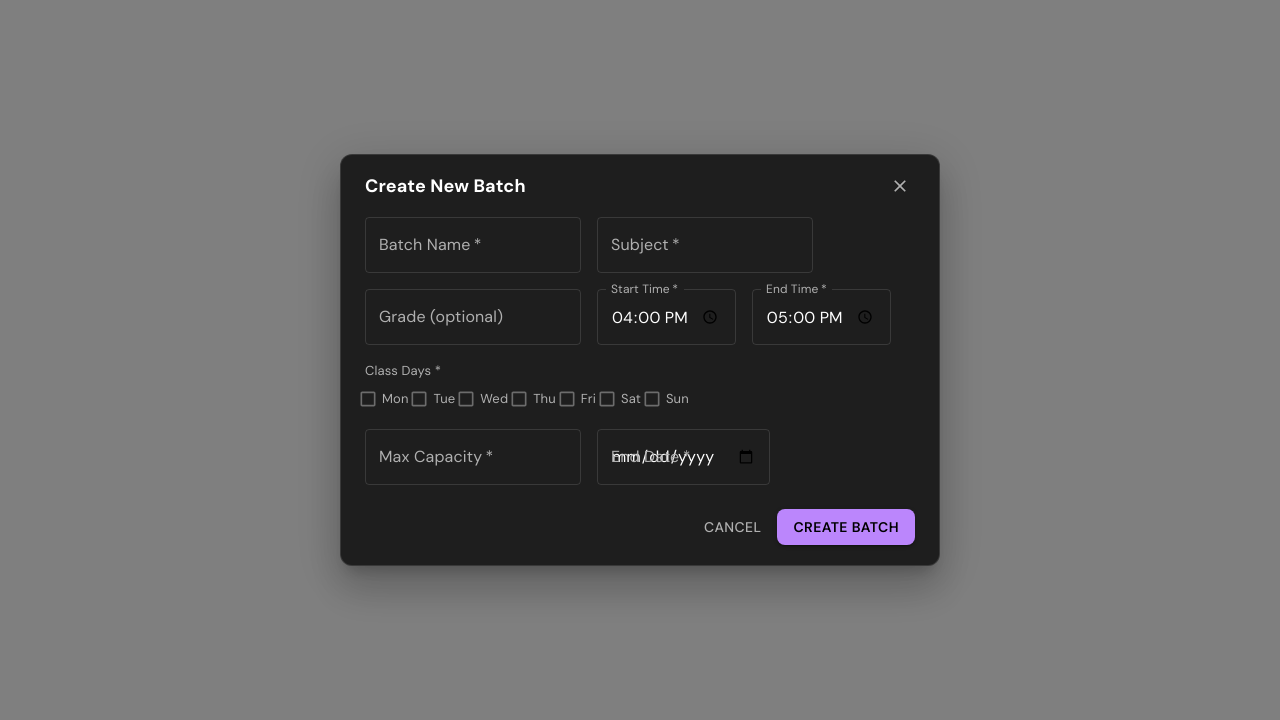
Test case: CreateBatchModal › shows API error message when createBatch fails
Type "New Batch" into the field labelled "Batch Name *".
click(473, 245); type("New Batch")  # box [365,217,581,273]
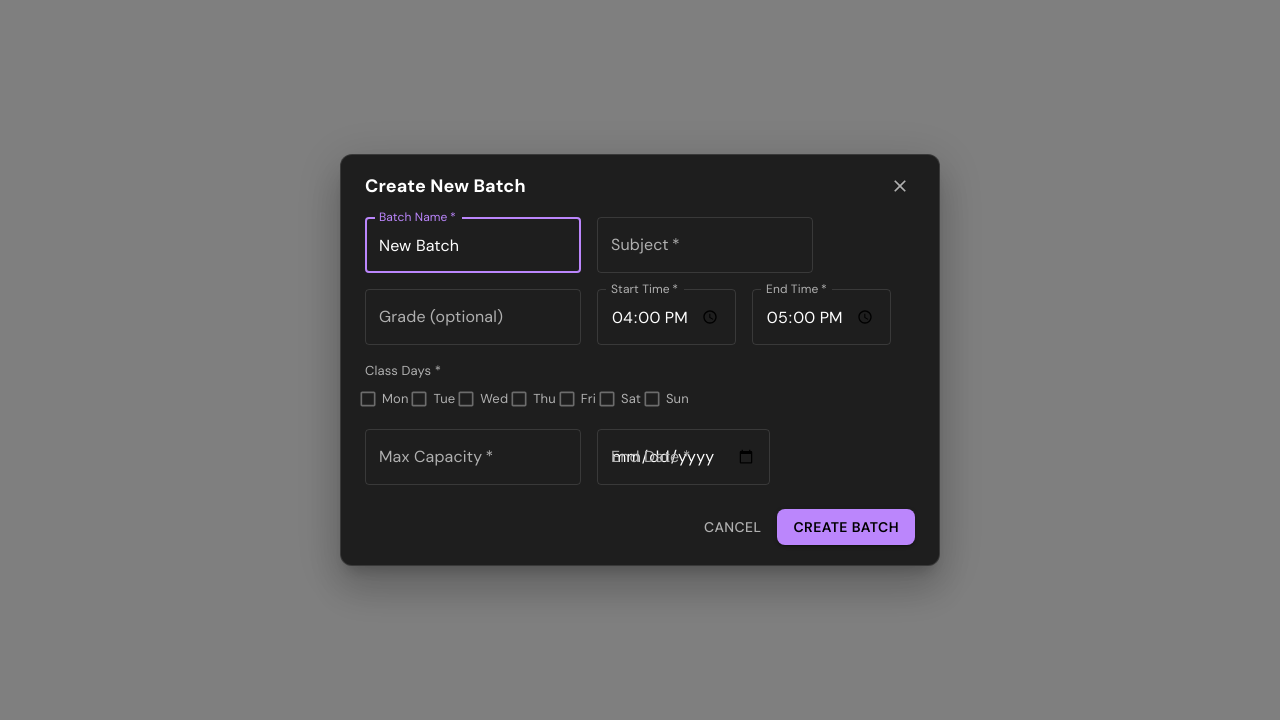
Type "Science" into the field labelled "Subject *".
click(705, 245); type("Science")  # box [597,217,813,273]
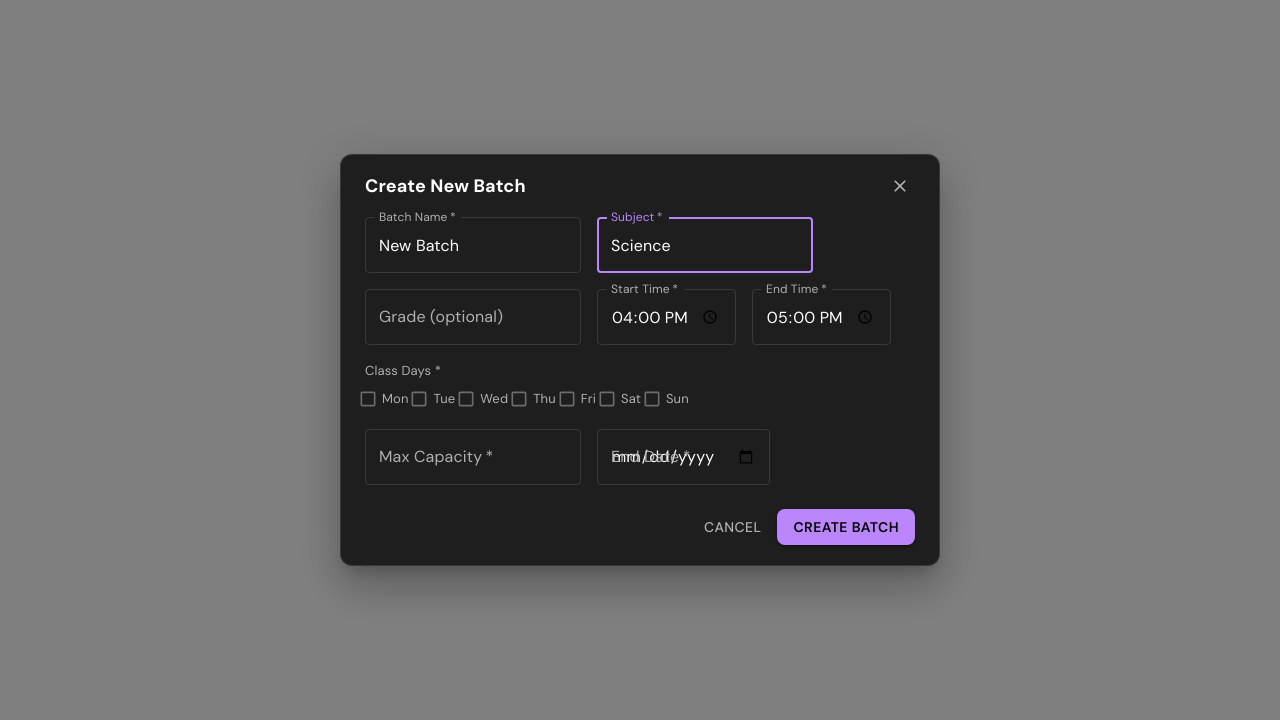
Click the checkbox labelled "Mon".
click(381, 398)  # box [354,384,408,412]
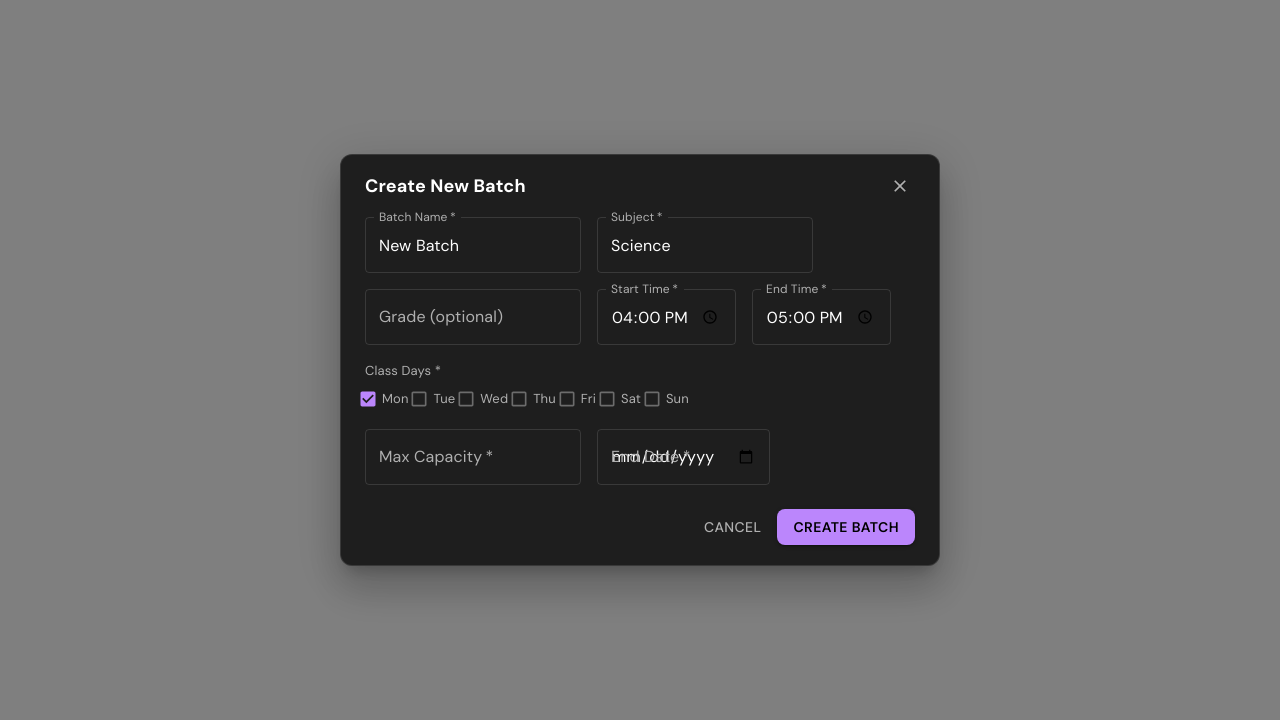
Type "20" into the number field labelled "Max Capacity *".
click(473, 456); type("20")  # box [365,428,581,484]
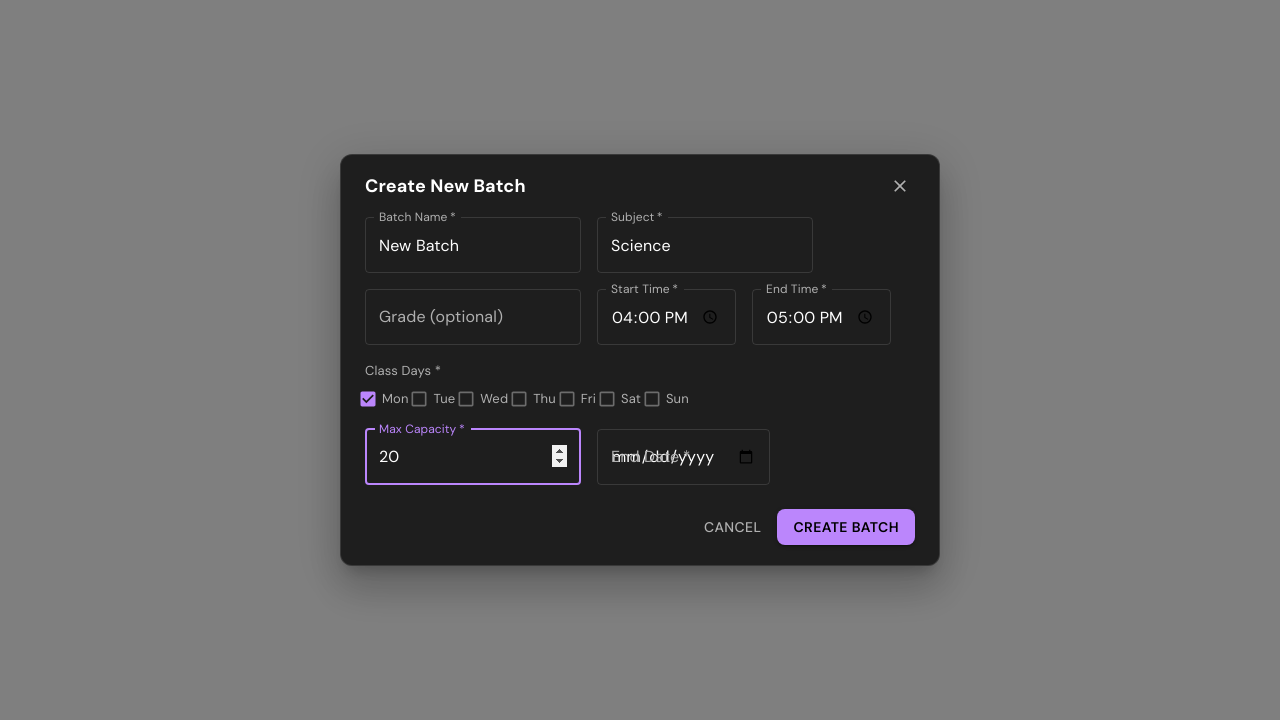
Type "2026-12-31" into the date field labelled "End Date *".
click(684, 456); type("2026-12-31")  # box [597,428,770,484]
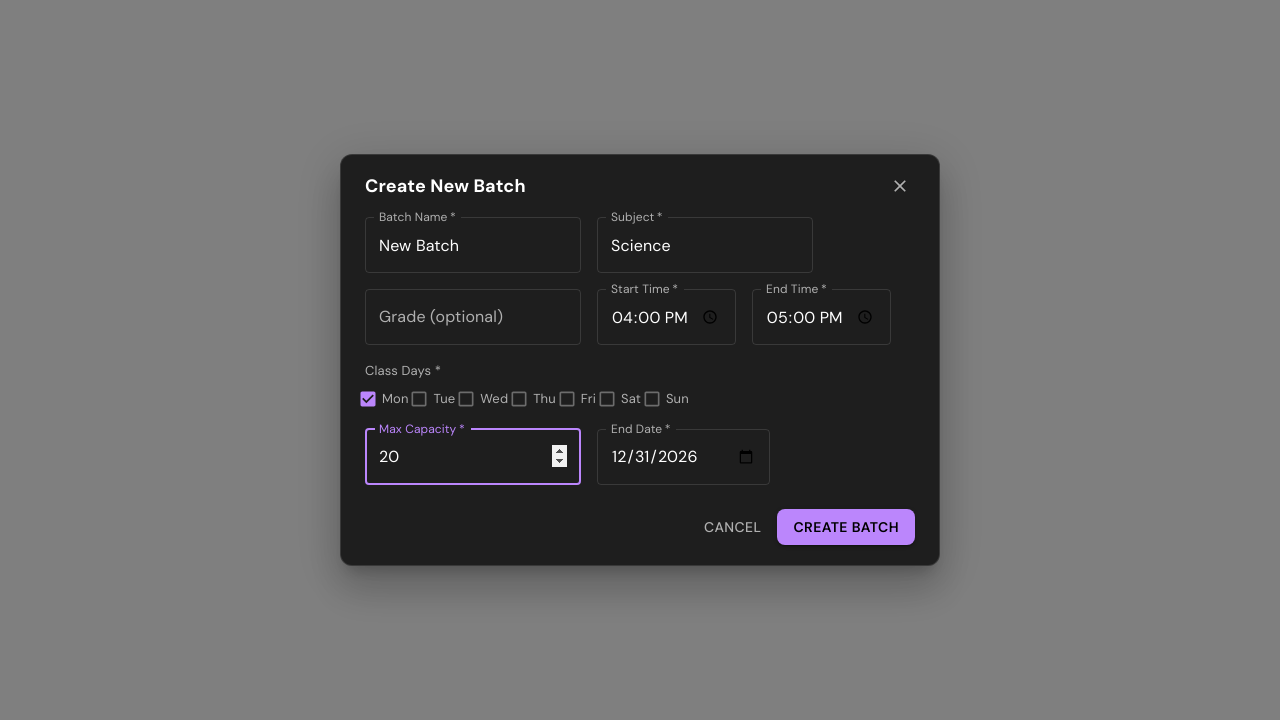
Click the button "Create Batch".
click(846, 527)  # box [777,508,915,545]
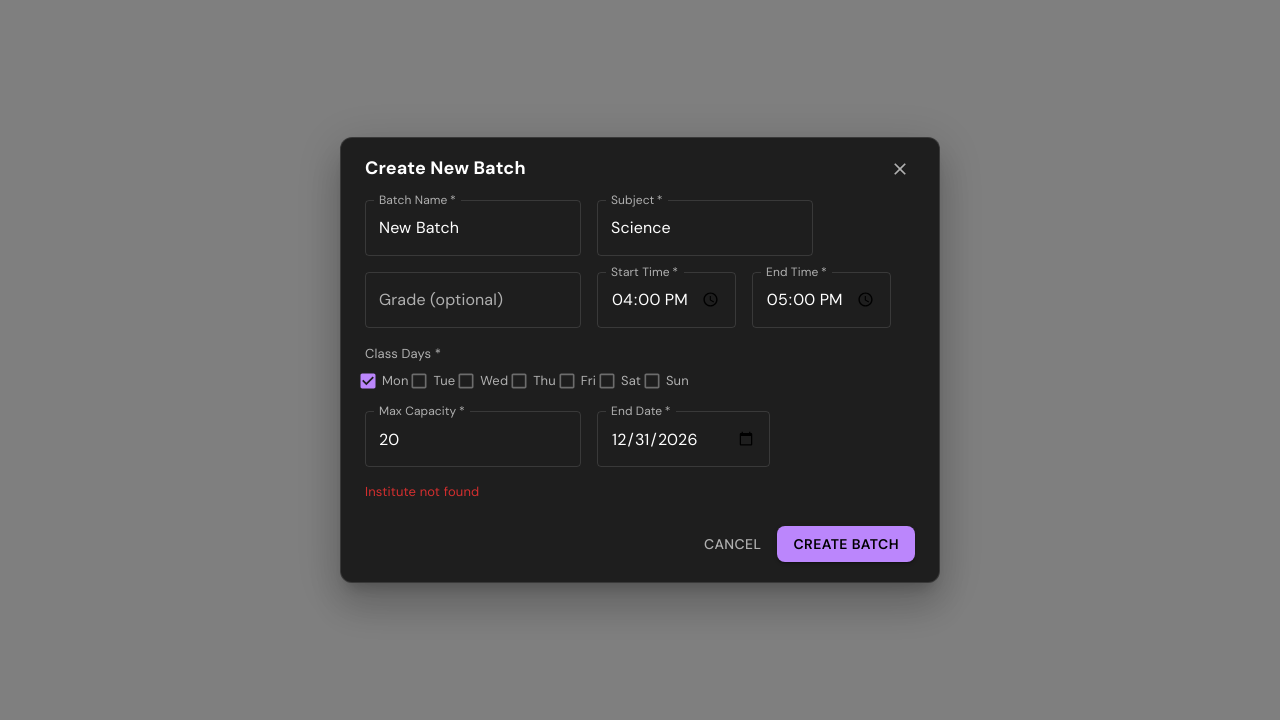
Check: the text "Institute not found" is shown, box [365,483,479,500]
